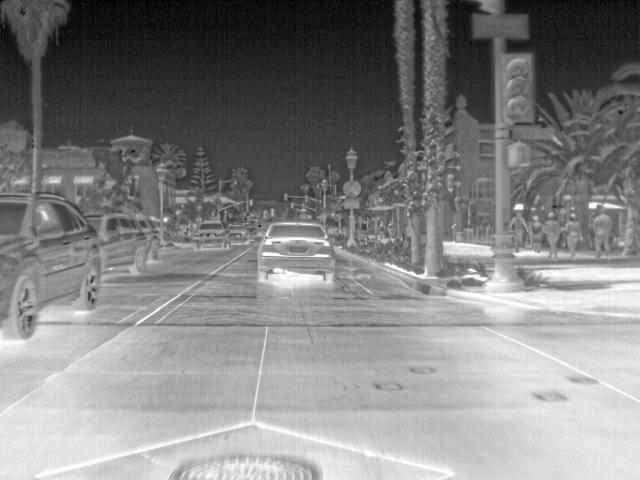car: (0, 189, 101, 340), (257, 219, 335, 286), (86, 213, 146, 274), (191, 218, 230, 252), (226, 221, 248, 244)
person: (589, 205, 613, 256), (559, 210, 583, 254), (509, 207, 529, 255), (541, 210, 559, 254), (525, 211, 542, 251)
